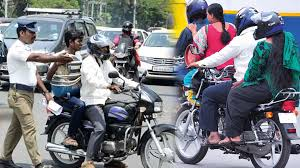helmet: (250, 10, 287, 40), (233, 6, 259, 34), (86, 34, 112, 58)
